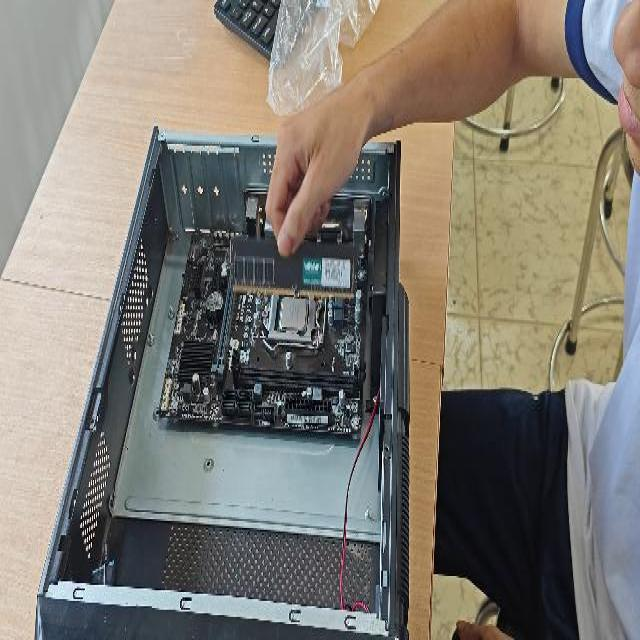CPU: (276, 297, 312, 336)
Mainboard: (158, 224, 362, 437)
RAM: (227, 232, 355, 296)
